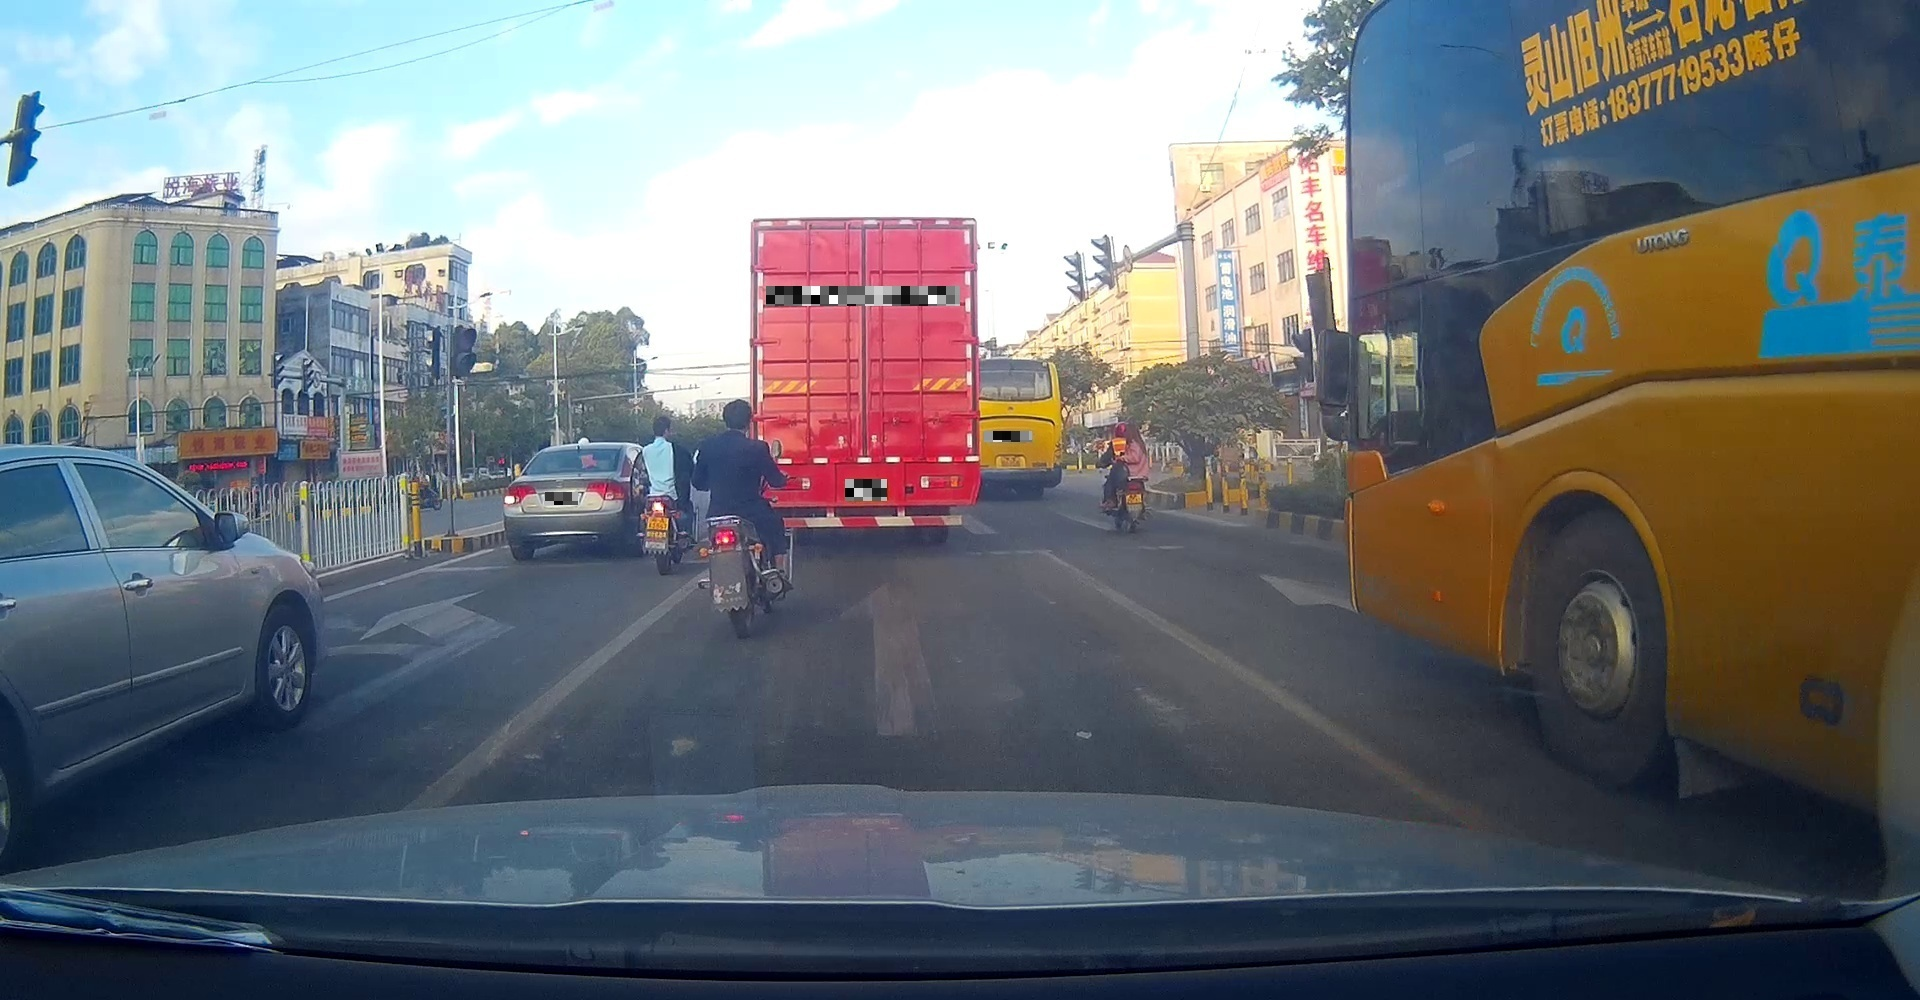L_light: (505, 485, 537, 506), (767, 476, 810, 490)
R_light: (585, 478, 629, 501), (919, 475, 964, 489)
T_light: (848, 225, 883, 239), (569, 448, 590, 453)
day-left: (505, 438, 635, 558)
day-no: (748, 217, 980, 546)
plate_1: (545, 492, 578, 505)
plate_2: (766, 286, 960, 306)
plate_3: (844, 478, 888, 501)
plate_4: (984, 431, 1032, 442)
